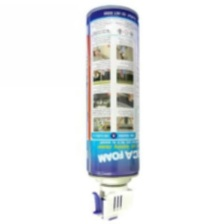aerosol_cans: (81, 3, 143, 222)
